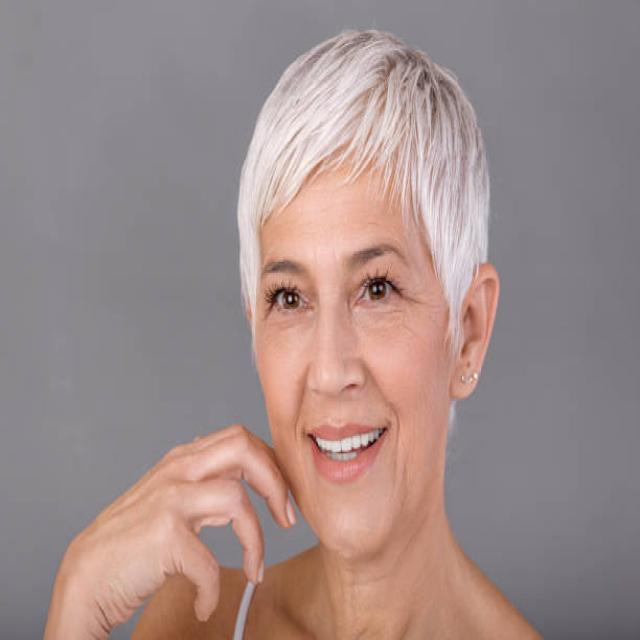Dry-Skin: (365, 314, 459, 483)
